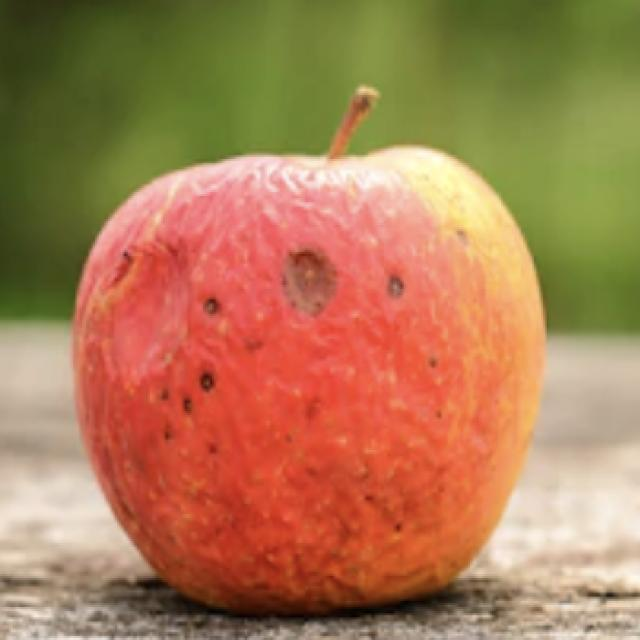Rotten: (77, 153, 548, 617)
